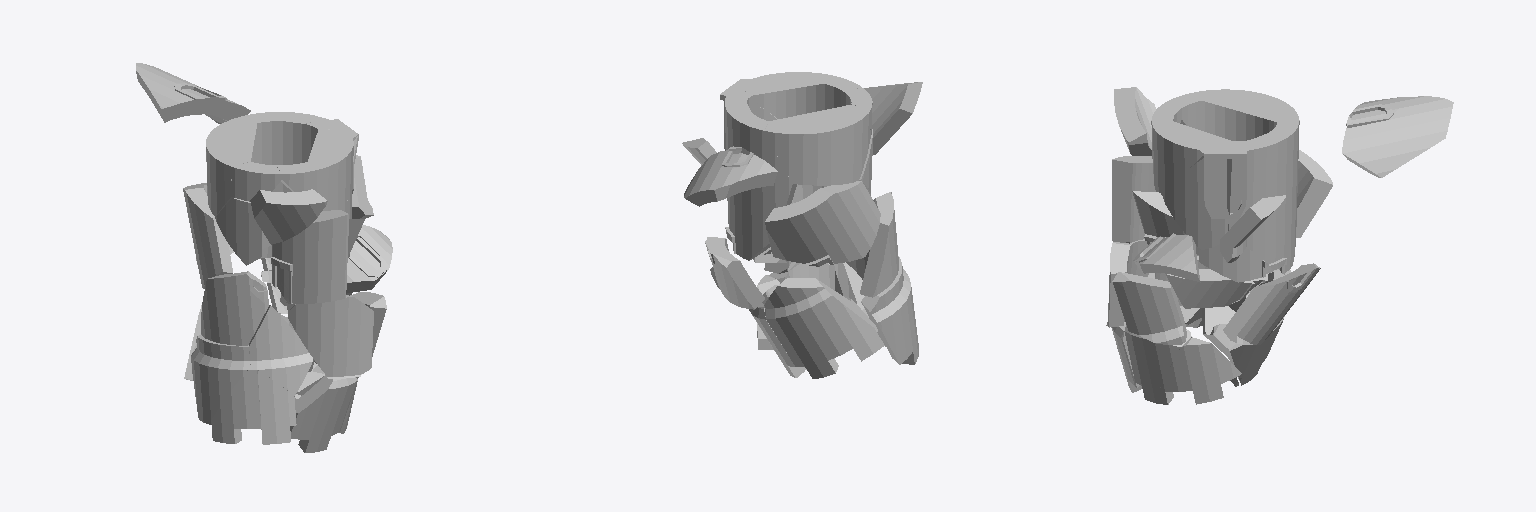
File: destruction_tower_000038.obj
3 renders of one model, left to right at view 1: azimuth 30°, elevation 25°; view 2: azimuth 150°, elevation 25°; view 3: azimuth 270°, elevation 25°, orthographic.
Visible parts, largest first — view 1: tower.001_cell.024_Mesh.024, tower.001_cell.021_Mesh.021, tower.001_cell.006_Mesh.006, tower.001_cell.009_Mesh.009, tower.001_cell.028_Mesh.028, tower.001_cell.011_Mesh.011, tower.001_cell.025_Mesh.025, tower.001_cell.013_Mesh.013, tower.001_cell.005_Mesh.005, tower.001_cell.015_Mesh.015, tower.001_cell.017_Mesh.017, tower.001_cell.002_Mesh.002 (+7 smaller); view 2: tower.001_cell.007_Mesh.007, tower.001_cell.003_Mesh.003, tower.001_cell.015_Mesh.015, tower.001_cell.017_Mesh.017, tower.001_cell.028_Mesh.028, tower.001_cell.025_Mesh.025, tower.001_cell.005_Mesh.005, tower.001_cell.009_Mesh.009, tower.001_cell.002_Mesh.002, tower.001_cell.012_Mesh.012, tower.001_cell.023_Mesh.023, tower.001_cell.029_Mesh.029 (+2 smaller); view 3: tower.001_cell.025_Mesh.025, tower.001_cell.017_Mesh.017, tower.001_cell.020_Mesh.020, tower.001_cell_Mesh, tower.001_cell.015_Mesh.015, tower.001_cell.012_Mesh.012, tower.001_cell.028_Mesh.028, tower.001_cell.030_Mesh.030, tower.001_cell.024_Mesh.024, tower.001_cell.027_Mesh.027, tower.001_cell.010_Mesh.010, tower.001_cell.023_Mesh.023 (+11 smaller).
Part boxes in pixels (bbox=[...]): tower.001_cell.024_Mesh.024: bbox=[271, 210, 348, 303]; tower.001_cell.021_Mesh.021: bbox=[287, 295, 373, 378]; tower.001_cell.006_Mesh.006: bbox=[209, 368, 296, 444]; tower.001_cell.009_Mesh.009: bbox=[201, 271, 268, 345]; tower.001_cell.028_Mesh.028: bbox=[276, 129, 358, 210]; tower.001_cell.011_Mesh.011: bbox=[290, 375, 357, 452]; tower.001_cell.025_Mesh.025: bbox=[136, 63, 250, 123]; tower.001_cell.013_Mesh.013: bbox=[249, 305, 312, 396]; tower.001_cell.005_Mesh.005: bbox=[191, 335, 250, 423]; tower.001_cell.015_Mesh.015: bbox=[206, 117, 256, 217]; tower.001_cell.017_Mesh.017: bbox=[241, 112, 325, 248]; tower.001_cell.002_Mesh.002: bbox=[250, 189, 327, 244]; tower.001_cell.007_Mesh.007: bbox=[764, 278, 884, 378]; tower.001_cell.003_Mesh.003: bbox=[765, 181, 880, 266]; tower.001_cell.015_Mesh.015: bbox=[765, 105, 870, 185]; tower.001_cell.017_Mesh.017: bbox=[725, 98, 796, 260]; tower.001_cell.028_Mesh.028: bbox=[741, 72, 860, 119]; tower.001_cell.025_Mesh.025: bbox=[684, 146, 777, 206]; tower.001_cell.005_Mesh.005: bbox=[861, 256, 913, 364]; tower.001_cell.009_Mesh.009: bbox=[860, 192, 898, 297]; tower.001_cell.002_Mesh.002: bbox=[864, 82, 922, 154]; tower.001_cell.012_Mesh.012: bbox=[705, 237, 764, 309]; tower.001_cell.023_Mesh.023: bbox=[769, 263, 834, 290]; tower.001_cell.029_Mesh.029: bbox=[749, 304, 804, 377]; tower.001_cell.025_Mesh.025: bbox=[1342, 96, 1453, 177]; tower.001_cell.017_Mesh.017: bbox=[1252, 119, 1299, 274]; tower.001_cell.020_Mesh.020: bbox=[1162, 148, 1231, 249]; tower.001_cell_Mesh: bbox=[1112, 272, 1186, 344]; tower.001_cell.015_Mesh.015: bbox=[1202, 89, 1298, 140]; tower.001_cell.012_Mesh.012: bbox=[1223, 263, 1320, 344]; tower.001_cell.028_Mesh.028: bbox=[1151, 106, 1232, 194]; tower.001_cell.030_Mesh.030: bbox=[1154, 337, 1241, 404]; tower.001_cell.024_Mesh.024: bbox=[1112, 156, 1155, 243]; tower.001_cell.027_Mesh.027: bbox=[1166, 269, 1267, 308]; tower.001_cell.010_Mesh.010: bbox=[1133, 233, 1200, 282]; tower.001_cell.023_Mesh.023: bbox=[1124, 325, 1191, 402].
Bounding box in the file's own units: 63.78 × 88.52 × 100.